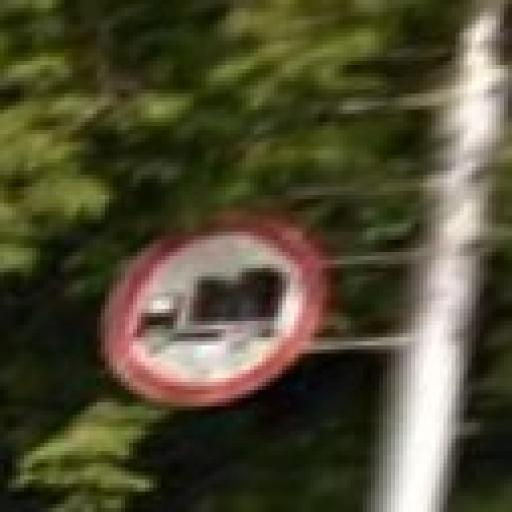traffic_sign: (102, 213, 328, 408)
